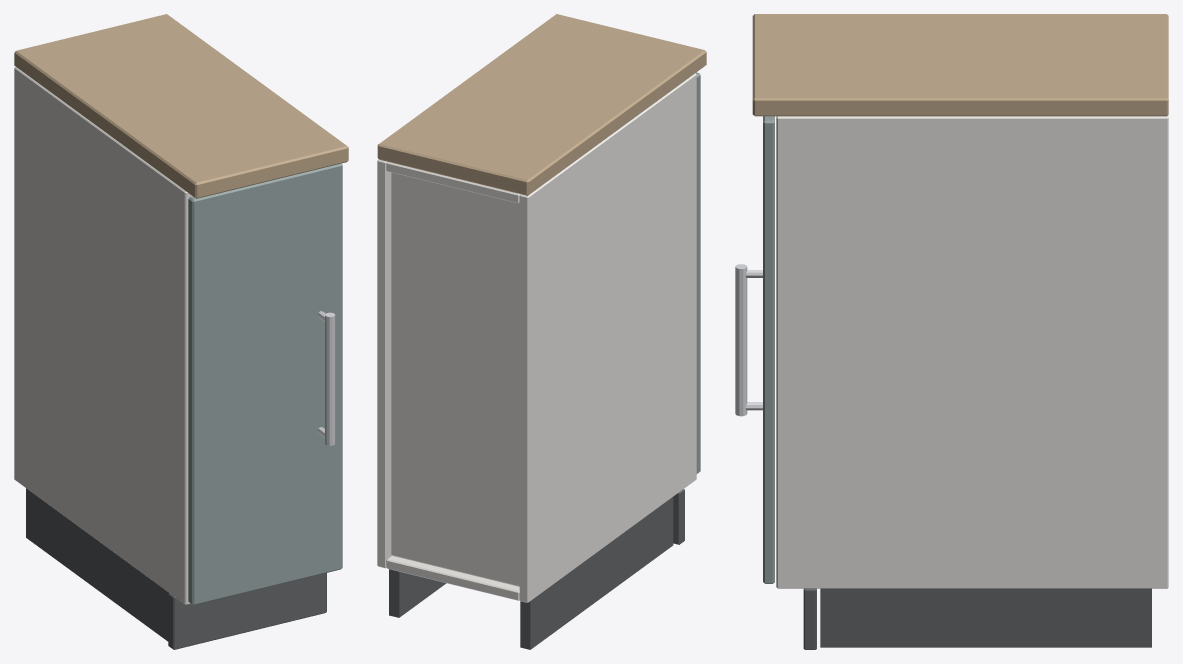
Rendered from fitted-kitchen-and-bathroom-builder-base-300-pull-out--b7b7b428__17815.glb.
3 renders of one model, left to right at view 1: azimuth 30°, elevation 25°; view 2: azimuth 150°, elevation 25°; view 3: azimuth 270°, elevation 25°, orthographic. The views are drawn at different scales.
Parts seen in each view (by area): view 1: base-300-pull-out-larder, pull-out/front, pull-out/metal; view 2: base-300-pull-out-larder, pull-out/front; view 3: base-300-pull-out-larder, pull-out/front, pull-out/metal.
Part boxes in pixels (x1,y1,x2,y2): base-300-pull-out-larder: (14, 14, 348, 649); pull-out/front: (188, 163, 342, 605); pull-out/metal: (317, 311, 335, 445); base-300-pull-out-larder: (377, 14, 706, 649); pull-out/front: (695, 72, 700, 473); base-300-pull-out-larder: (752, 14, 1168, 649); pull-out/front: (763, 116, 774, 583); pull-out/metal: (735, 264, 762, 416).
Bounding box in the file's own units: 0.3 × 0.9 × 0.641.
